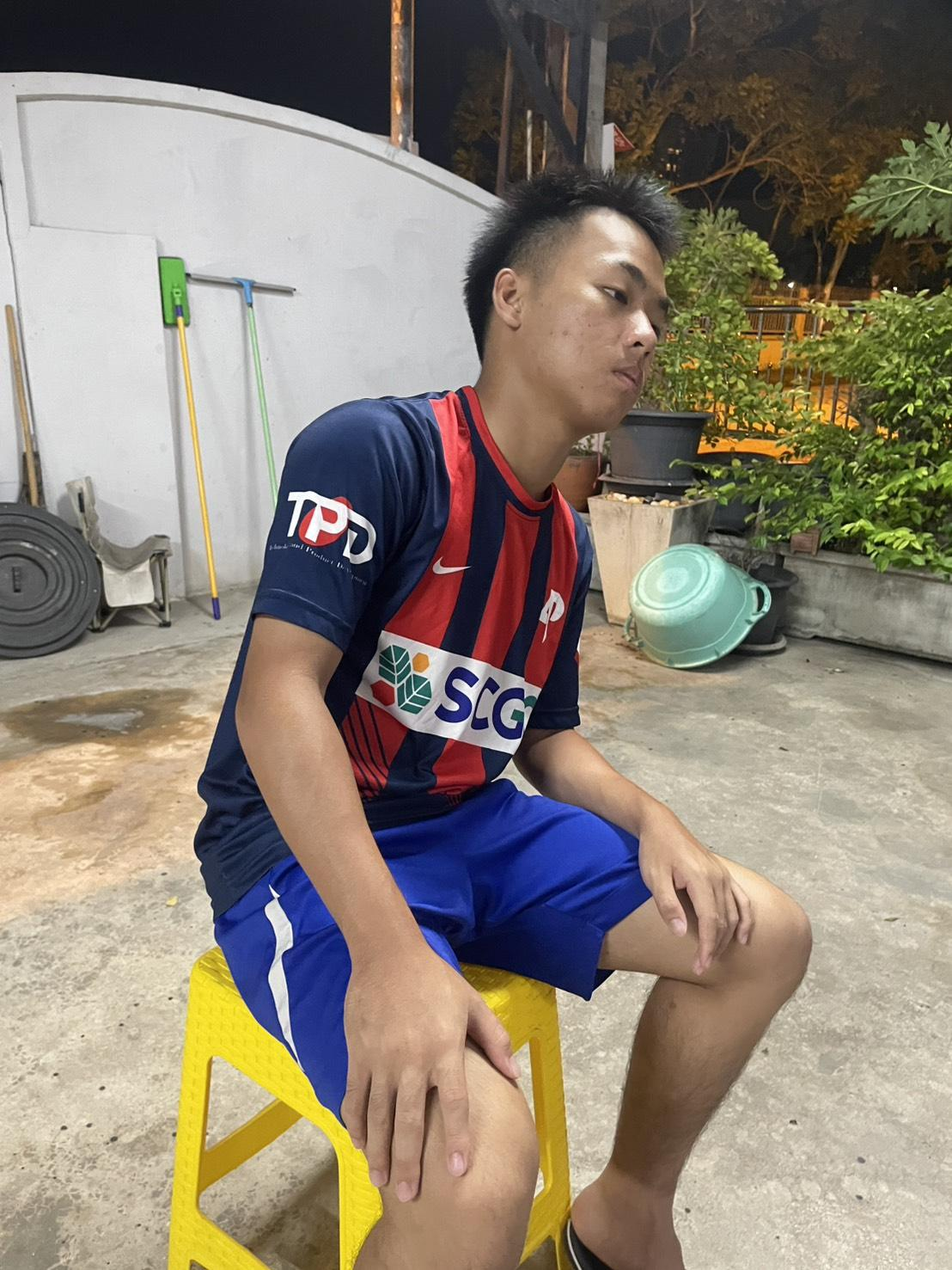BadPosture: (195, 170, 677, 898)
